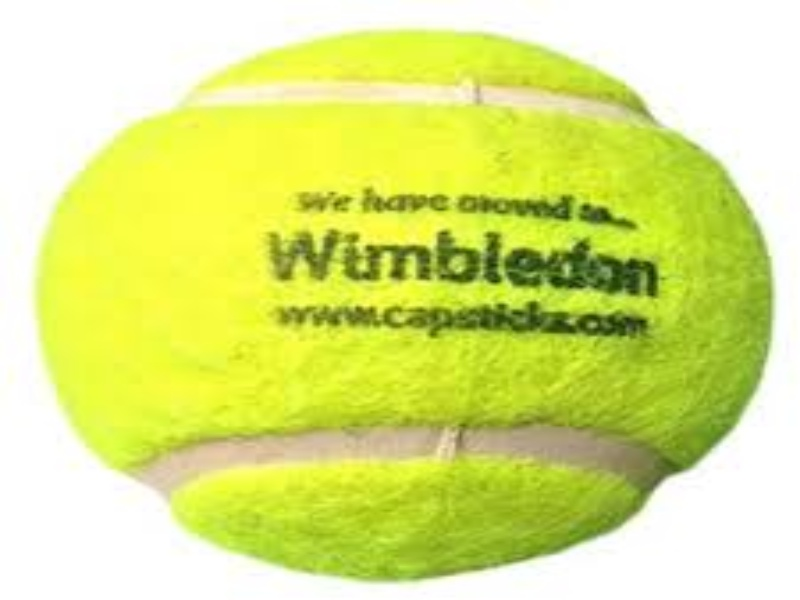tennis ball: (36, 21, 761, 587)
